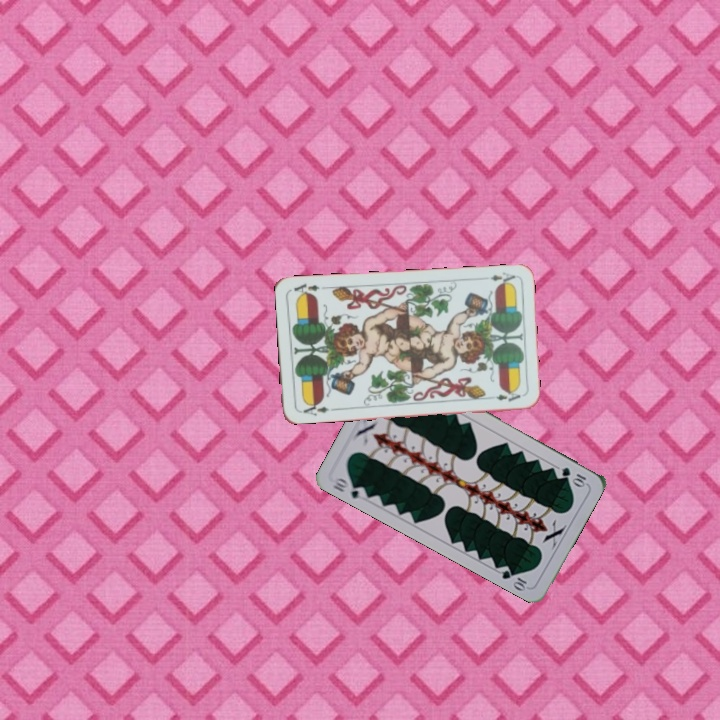EA: (296, 398, 331, 418), (486, 268, 518, 288)
G10: (329, 473, 369, 501), (558, 463, 589, 489)
